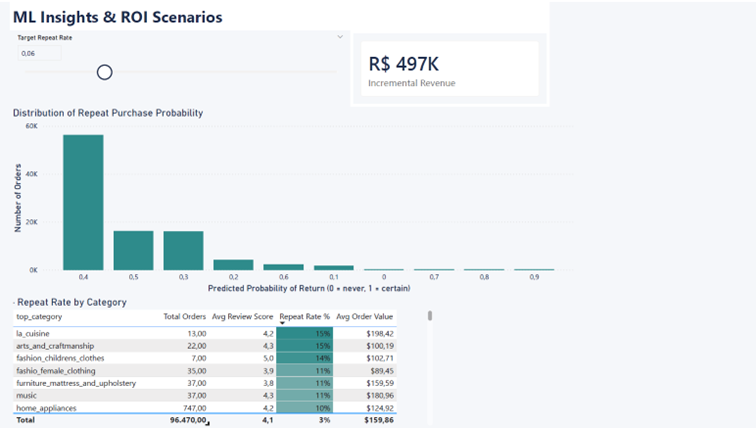

What the dashboard file says about the page in this screenshot:
{"tool":"powerbi","page":{"name":"ML Insights & ROI Scenarios","canvas":[1280,720],"ordinal":2},"visuals":[{"type":"lineClusteredColumnComboChart","title":"Distribution of Repeat Purchase Probability","fields":{"Category":["olist_powerbi_export.prob_bucket"],"Y":["CountNonNull(olist_powerbi_export.order_id)"]},"box":[0,176,976,320],"z":1000},{"type":"tableEx","title":"· Repeat Rate by Category ","fields":{"Values":["olist_powerbi_export.top_category","select","olist_powerbi_export.Total Orders","olist_powerbi_export.Avg Review Score","olist_powerbi_export.Repeat Rate %","olist_powerbi_export.Avg Order Value"]},"box":[0,496,720,224],"z":2000},{"type":"textbox","box":[20,10,900,40],"z":3000},{"type":"slicer","fields":{"Values":["Target Repeat Rate.Target Repeat Rate"]},"box":[0,48,576,128],"z":3001},{"type":"cardVisual","fields":{"Data":["olist_powerbi_export.Incremental Revenue"]},"box":[576,48,336,128],"z":3002}]}

Visuals, with their boxes in screenshot pixels (x1, y1, x2, y2), scaled from the page's 1280x720 canvas onto the 756x428 screenshot:
"Distribution of Repeat Purchase Probability" lineClusteredColumnComboChart: pyautogui.locateOnScreen(0, 105, 576, 295)
"· Repeat Rate by Category " tableEx: pyautogui.locateOnScreen(0, 295, 425, 427)
textbox: pyautogui.locateOnScreen(12, 6, 543, 30)
slicer - Target Repeat Rate.Target Repeat Rate: pyautogui.locateOnScreen(0, 29, 340, 105)
cardVisual - olist_powerbi_export.Incremental Revenue: pyautogui.locateOnScreen(340, 29, 539, 105)
